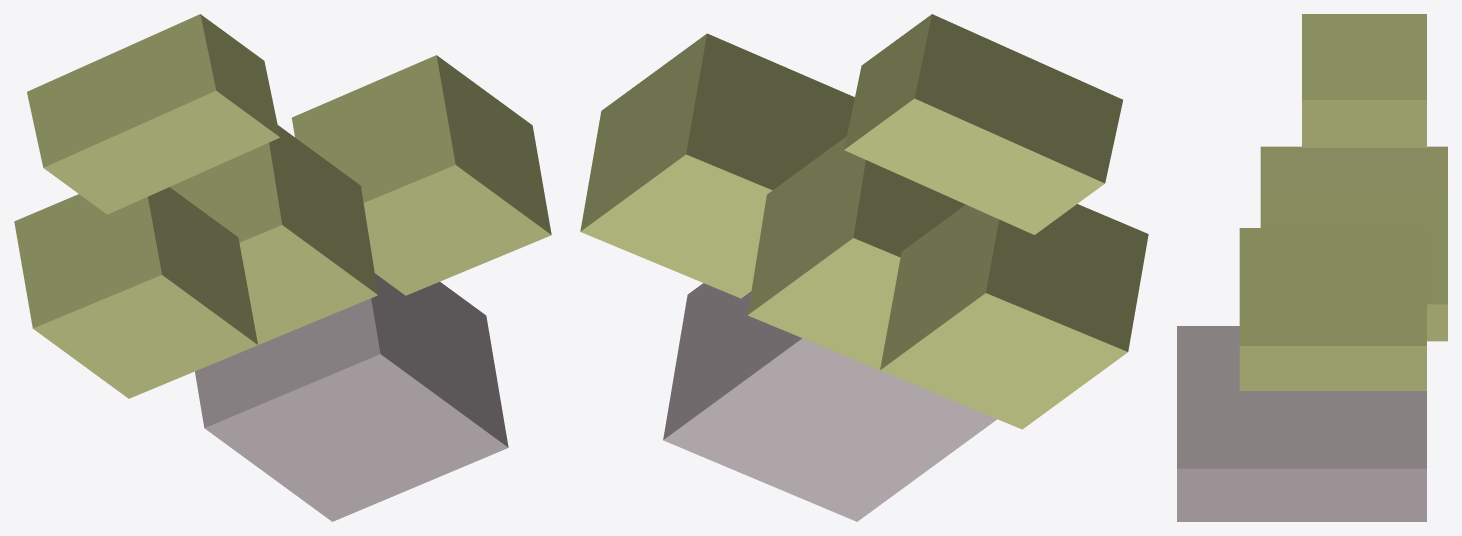
The picture shows the model from 3 angles, left to right: view 1: azimuth 30°, elevation 25°; view 2: azimuth 150°, elevation 25°; view 3: azimuth 270°, elevation 25°; orthographic projection. The views are drawn at different scales.
Visible parts, largest first — view 1: 0_1_2_3_3_3_3_3_0_1; view 2: 0_1_2_3_3_3_3_3_0_1; view 3: 0_1_2_3_3_3_3_3_0_1.
Boxes of the visible parts, bbox=[...] form: 0_1_2_3_3_3_3_3_0_1: bbox=[14, 14, 551, 521]; 0_1_2_3_3_3_3_3_0_1: bbox=[580, 14, 1148, 521]; 0_1_2_3_3_3_3_3_0_1: bbox=[1177, 14, 1447, 521].
Bounding box in the file's own units: 23.29 × 21.46 × 13.01.
